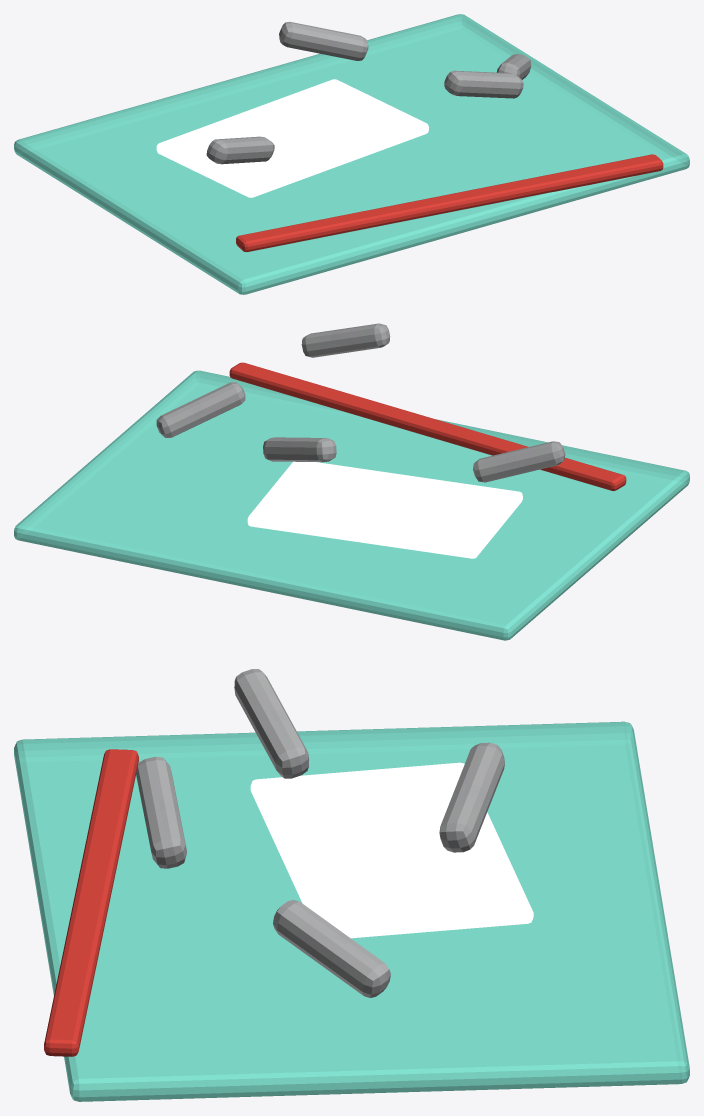
Rendered from cult_whispering_residue.glb.
3 views of the same model, one above another, from view 1: azimuth 30°, elevation 25°; view 2: azimuth 150°, elevation 25°; view 3: azimuth 270°, elevation 25° (orthographic). The views are drawn at different scales.
Parts seen in each view (by area): view 1: CULT_WHISPERING_RESIDUE__Residue_Body, CULT_WHISPERING_RESIDUE__Inner_Emission, CULT_WHISPERING_RESIDUE__Residue_Rim_A, CULT_WHISPERING_RESIDUE__Suspended_Fragment_2, CULT_WHISPERING_RESIDUE__Suspended_Fragment_4, CULT_WHISPERING_RESIDUE__Suspended_Fragment_1, CULT_WHISPERING_RESIDUE__Suspended_Fragment_3; view 2: CULT_WHISPERING_RESIDUE__Residue_Body, CULT_WHISPERING_RESIDUE__Inner_Emission, CULT_WHISPERING_RESIDUE__Residue_Rim_A, CULT_WHISPERING_RESIDUE__Suspended_Fragment_3, CULT_WHISPERING_RESIDUE__Suspended_Fragment_1, CULT_WHISPERING_RESIDUE__Suspended_Fragment_4, CULT_WHISPERING_RESIDUE__Suspended_Fragment_2; view 3: CULT_WHISPERING_RESIDUE__Residue_Body, CULT_WHISPERING_RESIDUE__Inner_Emission, CULT_WHISPERING_RESIDUE__Residue_Rim_A, CULT_WHISPERING_RESIDUE__Suspended_Fragment_3, CULT_WHISPERING_RESIDUE__Suspended_Fragment_2, CULT_WHISPERING_RESIDUE__Suspended_Fragment_1, CULT_WHISPERING_RESIDUE__Suspended_Fragment_4.
Part boxes in pixels (box(x1,y1,x2,y2)): CULT_WHISPERING_RESIDUE__Residue_Body: box(14, 14, 689, 294); CULT_WHISPERING_RESIDUE__Inner_Emission: box(156, 79, 428, 197); CULT_WHISPERING_RESIDUE__Residue_Rim_A: box(236, 154, 663, 251); CULT_WHISPERING_RESIDUE__Suspended_Fragment_2: box(279, 21, 368, 60); CULT_WHISPERING_RESIDUE__Suspended_Fragment_4: box(444, 70, 523, 98); CULT_WHISPERING_RESIDUE__Suspended_Fragment_1: box(206, 136, 274, 164); CULT_WHISPERING_RESIDUE__Suspended_Fragment_3: box(496, 54, 531, 79); CULT_WHISPERING_RESIDUE__Residue_Body: box(14, 370, 689, 640); CULT_WHISPERING_RESIDUE__Inner_Emission: box(247, 461, 522, 558); CULT_WHISPERING_RESIDUE__Residue_Rim_A: box(229, 362, 626, 490); CULT_WHISPERING_RESIDUE__Suspended_Fragment_3: box(156, 382, 245, 437); CULT_WHISPERING_RESIDUE__Suspended_Fragment_1: box(473, 441, 565, 482); CULT_WHISPERING_RESIDUE__Suspended_Fragment_4: box(301, 323, 390, 357); CULT_WHISPERING_RESIDUE__Suspended_Fragment_2: box(263, 437, 336, 462); CULT_WHISPERING_RESIDUE__Residue_Body: box(14, 721, 689, 1101); CULT_WHISPERING_RESIDUE__Inner_Emission: box(250, 762, 533, 938); CULT_WHISPERING_RESIDUE__Residue_Rim_A: box(44, 749, 138, 1056); CULT_WHISPERING_RESIDUE__Suspended_Fragment_3: box(273, 900, 390, 997); CULT_WHISPERING_RESIDUE__Suspended_Fragment_2: box(439, 742, 504, 852); CULT_WHISPERING_RESIDUE__Suspended_Fragment_1: box(234, 669, 308, 778); CULT_WHISPERING_RESIDUE__Suspended_Fragment_4: box(136, 756, 186, 868).
Bounding box in the file's own units: 0.86 × 0.2127 × 0.6745.
4 materials, 1 textured.
